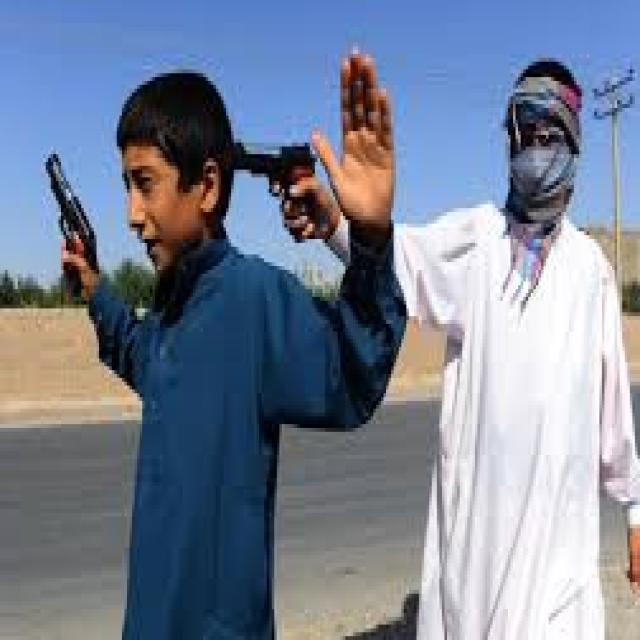gun: (28, 130, 128, 330), (218, 124, 351, 259)
